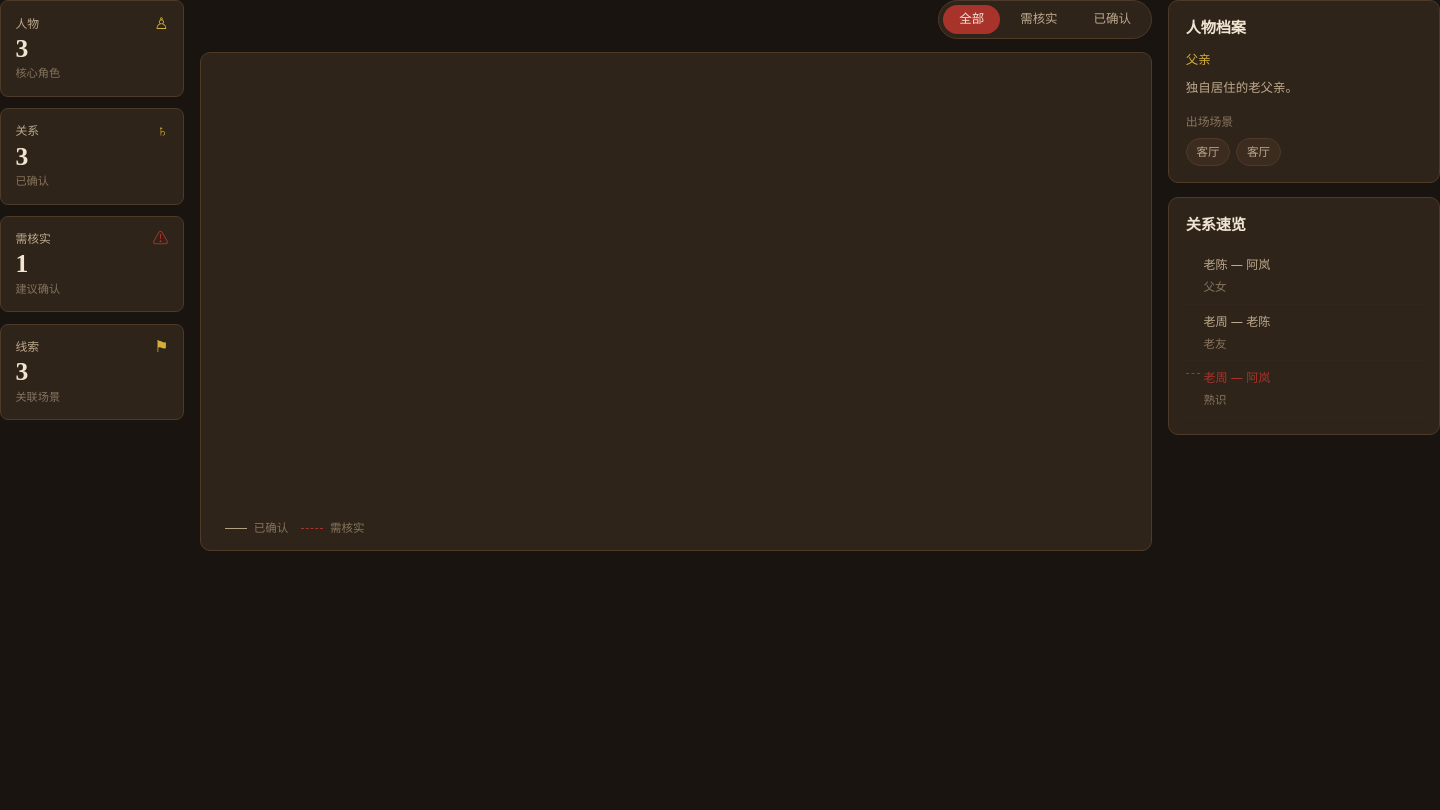
RelationGraph › 点击关系速览项切换人物档案
This screenshot has width=1440, height=810.
Click the text "老周 — 老陈".
click(1237, 322)  # box [1203,313,1270,331]
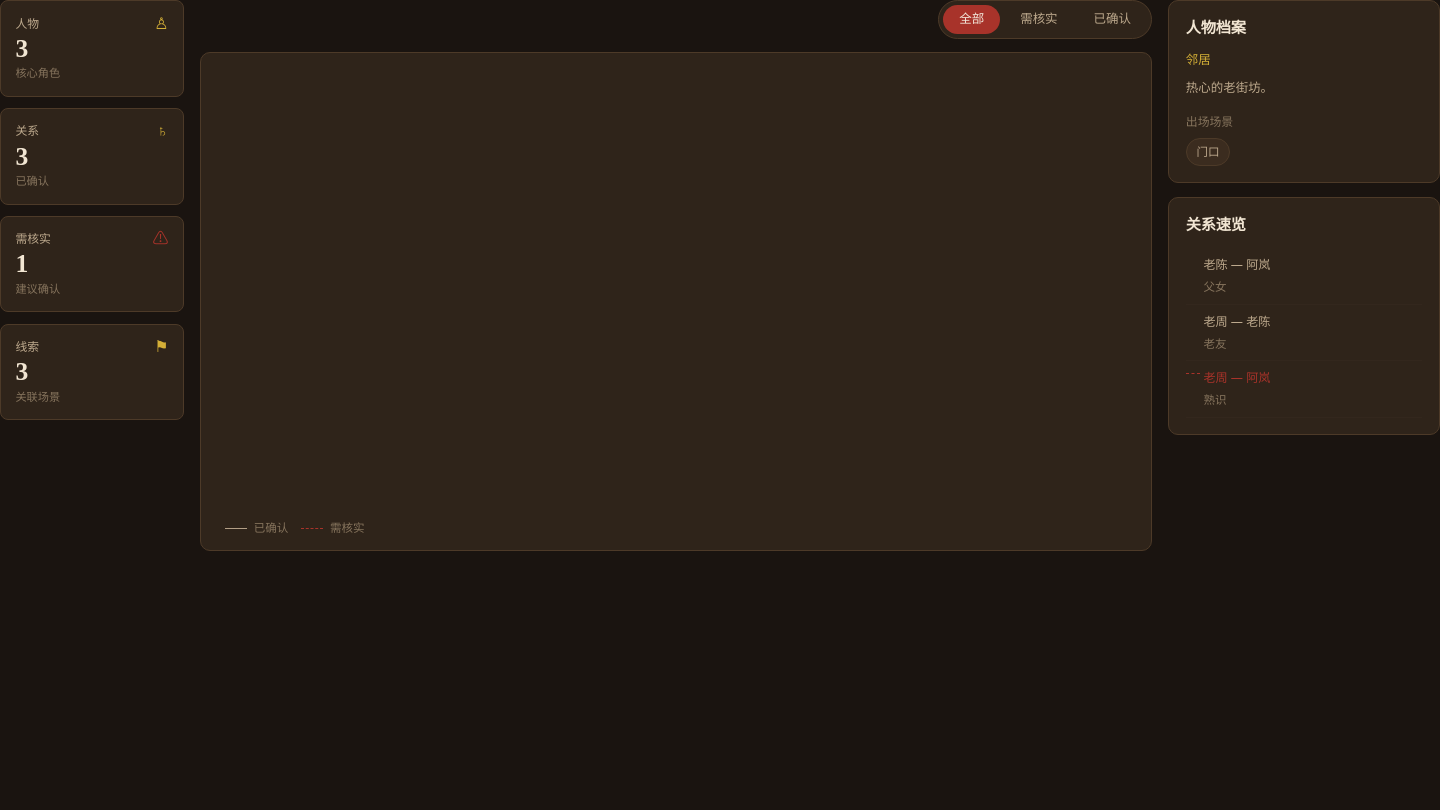
Now the text "热心的老街坊。" is shown, box [1186,79,1273,96]
Now the text "邻居" is shown, box [1186,51,1211,68]
